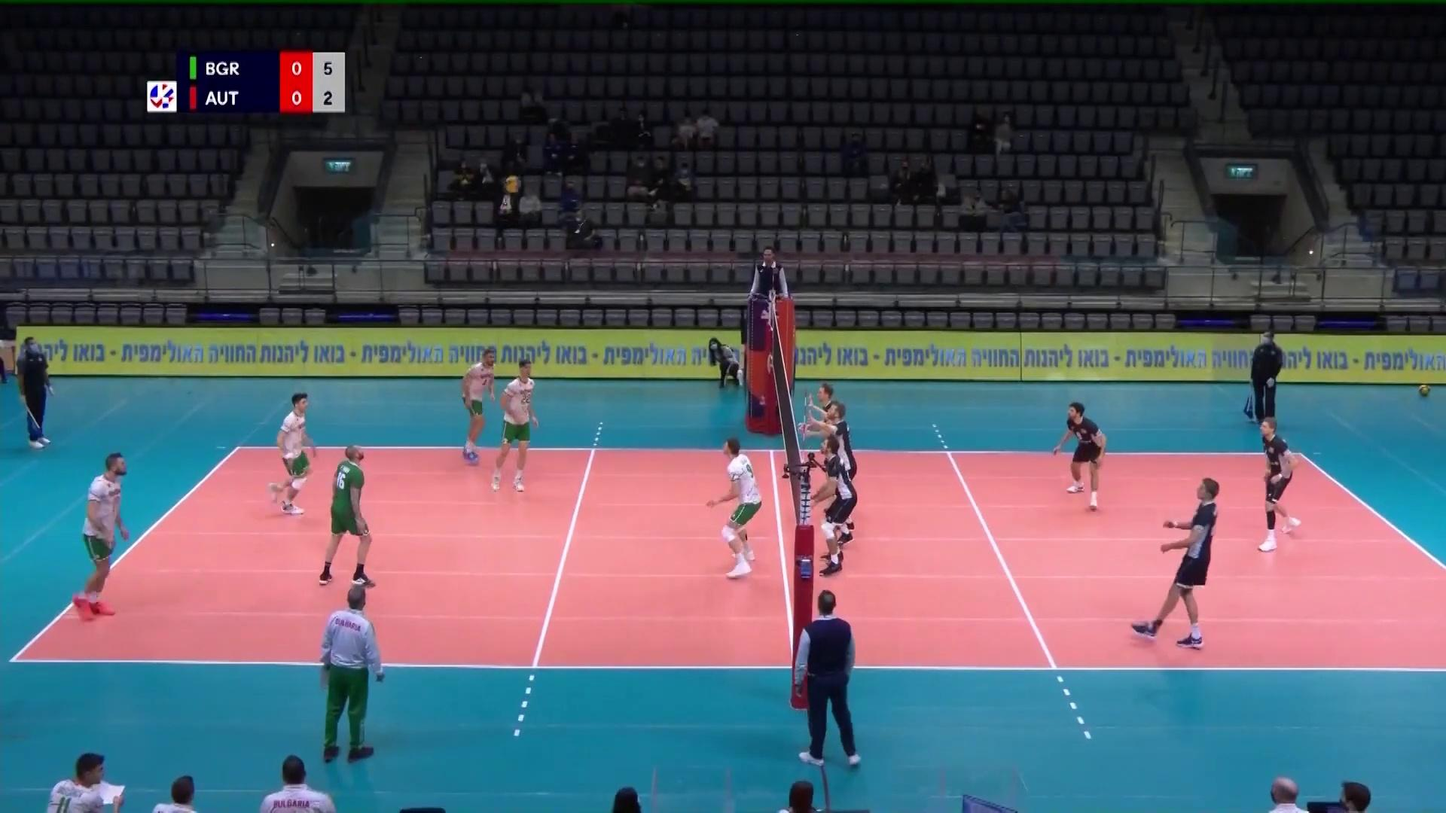ball: (505, 176, 521, 194)
